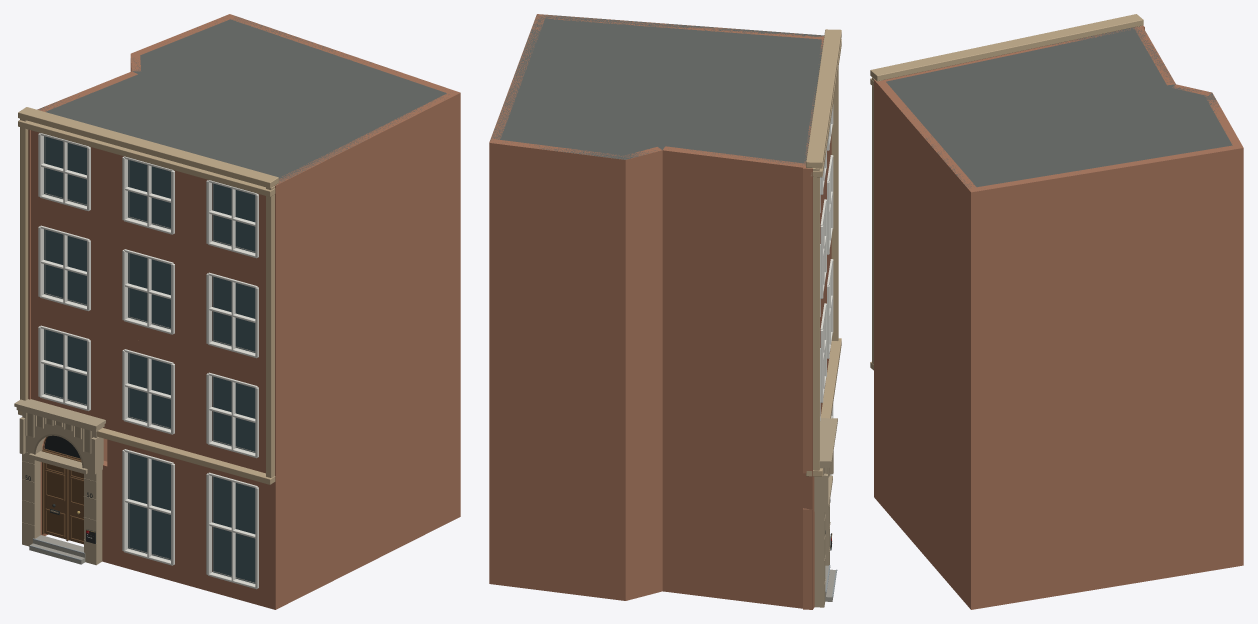
Rendered from 50l-exterior-c47ad9483e84.glb.
3 renders of one model, left to right at view 1: azimuth 30°, elevation 25°; view 2: azimuth 150°, elevation 25°; view 3: azimuth 270°, elevation 25°, orthographic. The views are drawn at different scales.
Visible parts, largest first — view 1: 50L.001; view 2: 50L.001; view 3: 50L.001.
Part boxes in pixels (x1,y1,x2,y2): 50L.001: (14, 14, 460, 609); 50L.001: (489, 14, 841, 609); 50L.001: (870, 14, 1243, 609).
Bounding box in the file's own units: 11.07 × 12.48 × 9.97.
